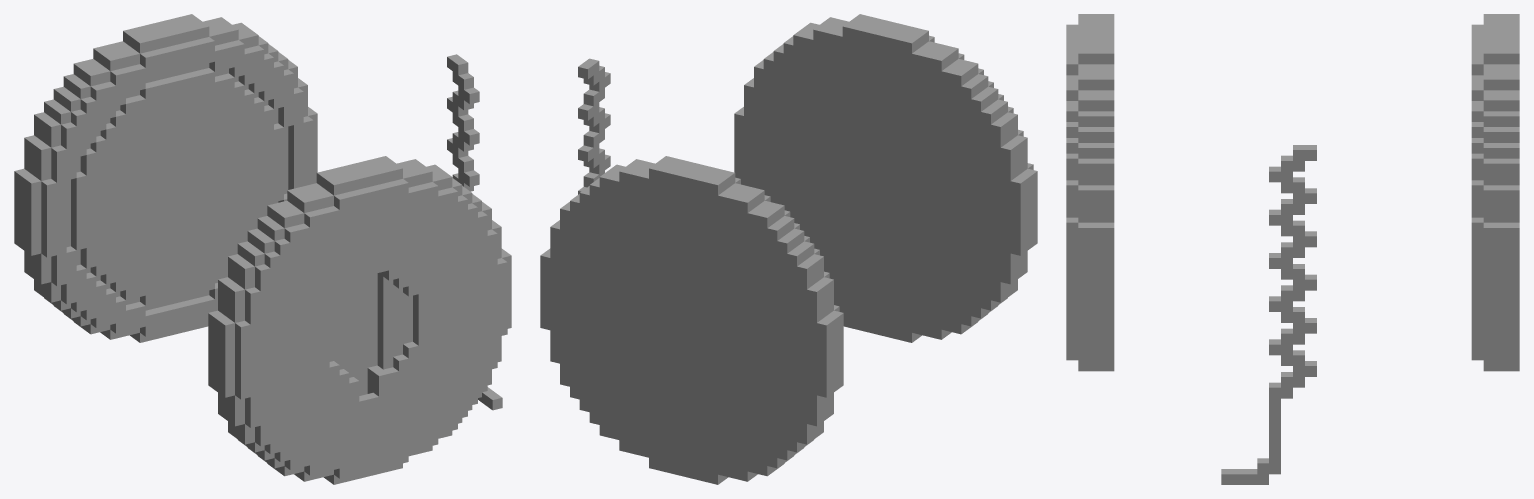
Rendered from lockpick equip.fbx.
3 views of the same model, side by side, from view 1: azimuth 30°, elevation 25°; view 2: azimuth 150°, elevation 25°; view 3: azimuth 270°, elevation 25° (orthographic). The views are drawn at different scales.
Visible parts, largest first — view 1: Untitled.001, Untitled.002, lockpick; view 2: Untitled.002, Untitled.001, lockpick; view 3: Untitled.001, Untitled.002, lockpick.
Part boxes in pixels (left/top/right/bottom): Untitled.001: left=208, top=156, right=511, bottom=484; Untitled.002: left=14, top=14, right=317, bottom=342; lockpick: left=447, top=54, right=502, bottom=410; Untitled.002: left=540, top=156, right=843, bottom=484; Untitled.001: left=734, top=14, right=1037, bottom=342; lockpick: left=578, top=58, right=610, bottom=194; Untitled.001: left=1066, top=14, right=1114, bottom=371; Untitled.002: left=1471, top=14, right=1519, bottom=371; lockpick: left=1221, top=145, right=1316, bottom=484.
Bounding box in the file's own units: 350 × 320 × 380.
1 material, 1 textured.
